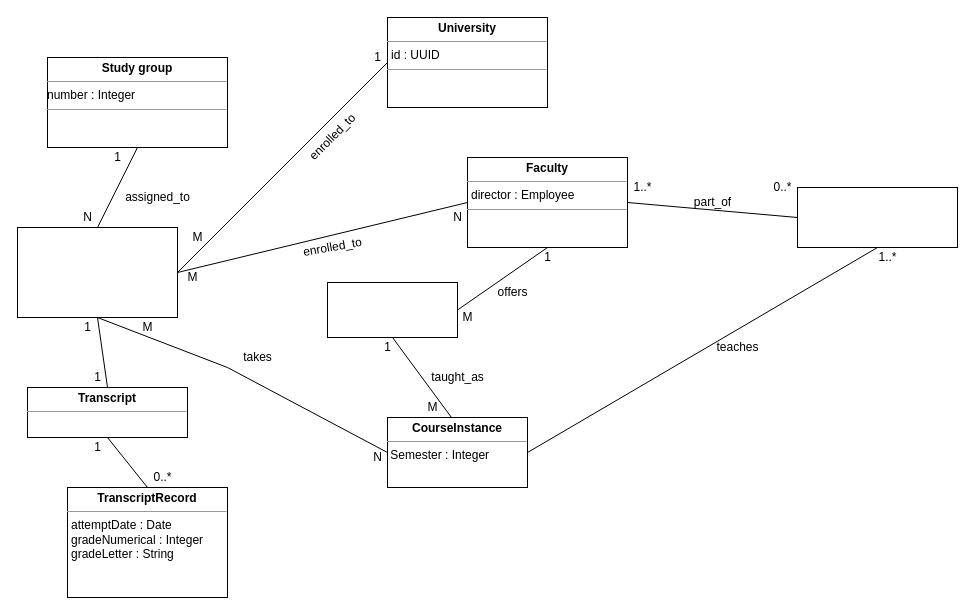
The diagram is 975 pixels wide and 615 high, and some of its shapes have lost their labels. Here are the shapes that lost their labels. From the top down, the centre of each, then its label:
[877,217]: Professor name : String
[97,272]: Student id : UUID
[392,310]: Course courseCode : Integer
